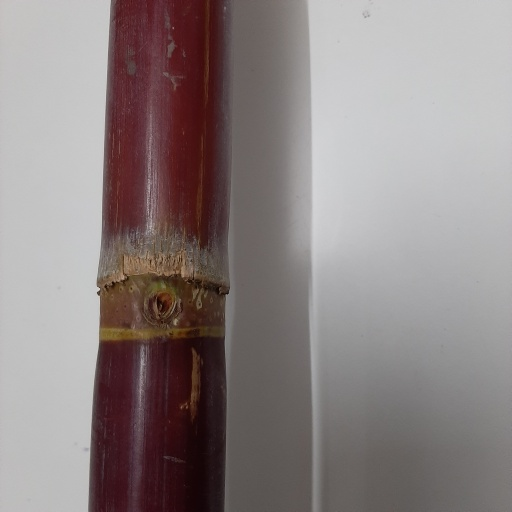Damage_Bud: (153, 289, 177, 321)
